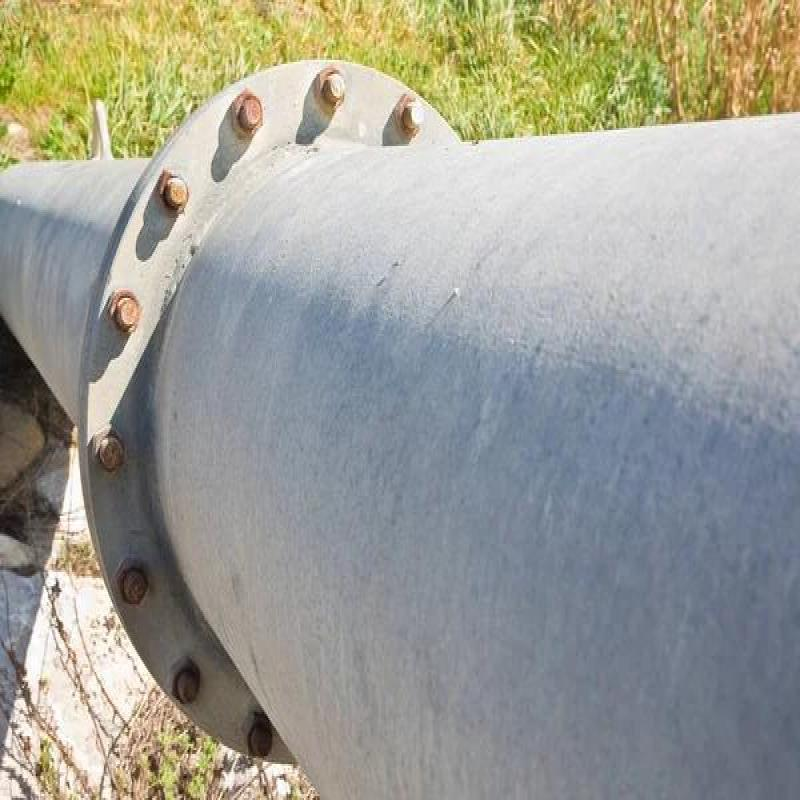Healthy: (9, 15, 800, 800)
